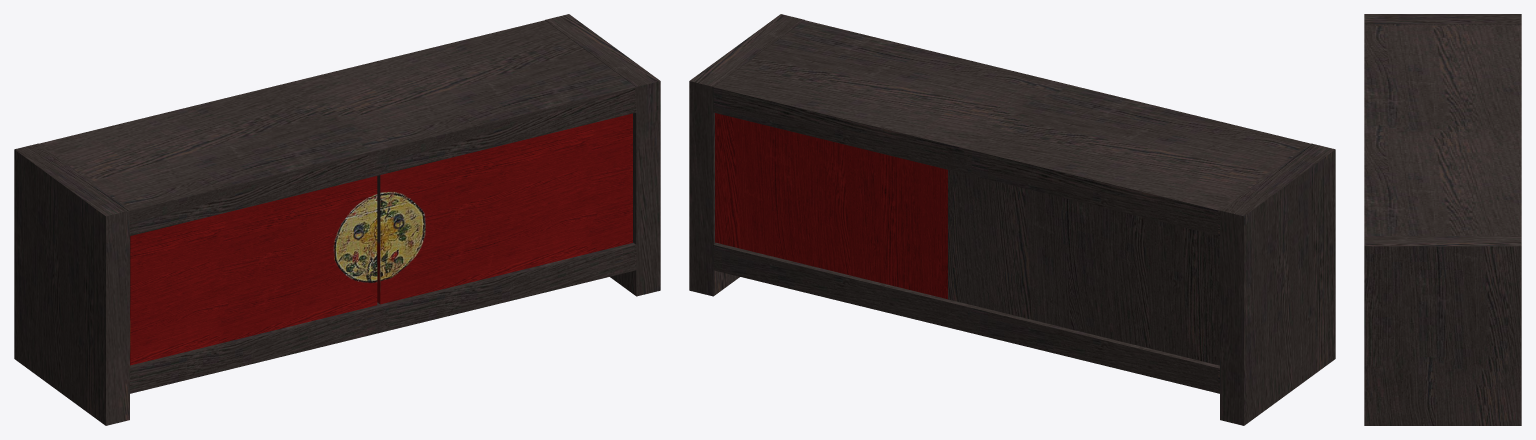
Rendered from Cabinet.FBX.
The picture shows the model from 3 angles, left to right: view 1: azimuth 30°, elevation 25°; view 2: azimuth 150°, elevation 25°; view 3: azimuth 270°, elevation 25°; orthographic projection. The views are drawn at different scales.
Parts seen in each view (by area): view 1: cabinet; view 2: cabinet; view 3: cabinet.
Boxes of the visible parts, <box> form: cabinet: <box>14,14,660,425</box>; cabinet: <box>689,14,1335,425</box>; cabinet: <box>1364,14,1521,425</box>.
Size of the model in its own units: 165 by 59.55 by 47.16.
